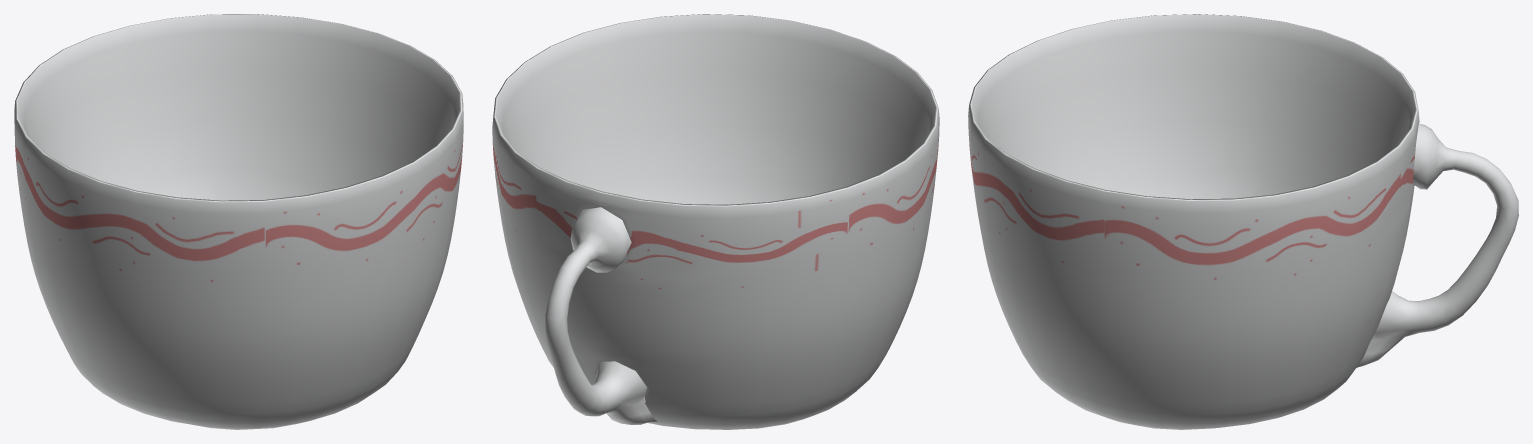
The model's file is Cup2.fbx.
3 renders of one model, left to right at view 1: azimuth 30°, elevation 25°; view 2: azimuth 150°, elevation 25°; view 3: azimuth 270°, elevation 25°, orthographic.
Visible parts, largest first — view 1: Cup; view 2: Cup; view 3: Cup.
Part boxes in pixels (bbox=[...]): Cup: bbox=[14, 14, 463, 429]; Cup: bbox=[492, 14, 939, 429]; Cup: bbox=[968, 14, 1518, 429].
Bounding box in the file's own units: 2.86 × 1.93 × 3.49.
Materials: 1 (1 with a texture image).
